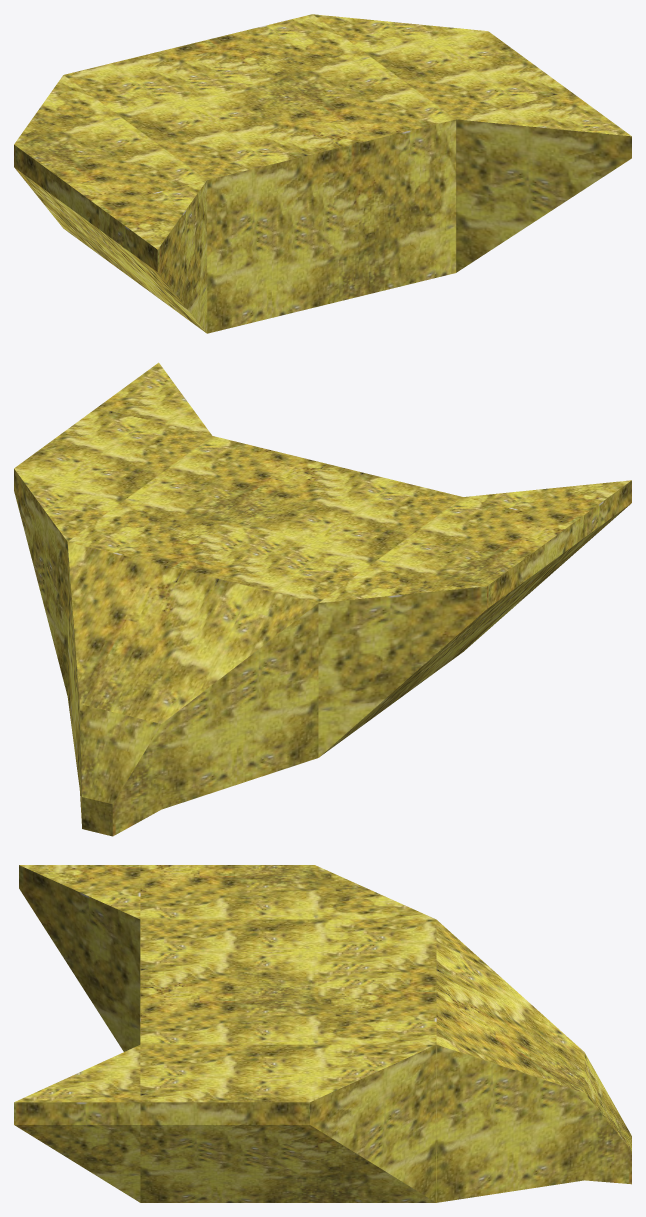
Rendered from ship.dae.
3 renders of one model, top to bottom at view 1: azimuth 30°, elevation 25°; view 2: azimuth 150°, elevation 25°; view 3: azimuth 270°, elevation 25°, orthographic. The views are drawn at different scales.
Visible parts, largest first — view 1: Cube; view 2: Cube; view 3: Cube.
Part boxes in pixels (x1,y1,x2,y2): Cube: (14,14,631,333); Cube: (14,362,631,836); Cube: (14,865,631,1202).
Size of the model in its own units: 3.79 by 4.17 by 1.45.
